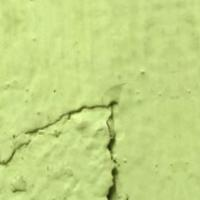crack: (0, 96, 134, 199)
